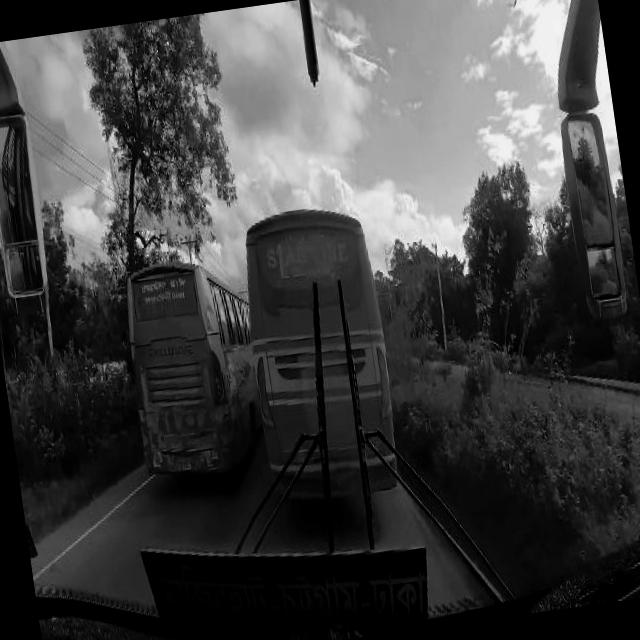bus: (236, 205, 403, 504), (118, 255, 270, 482)
